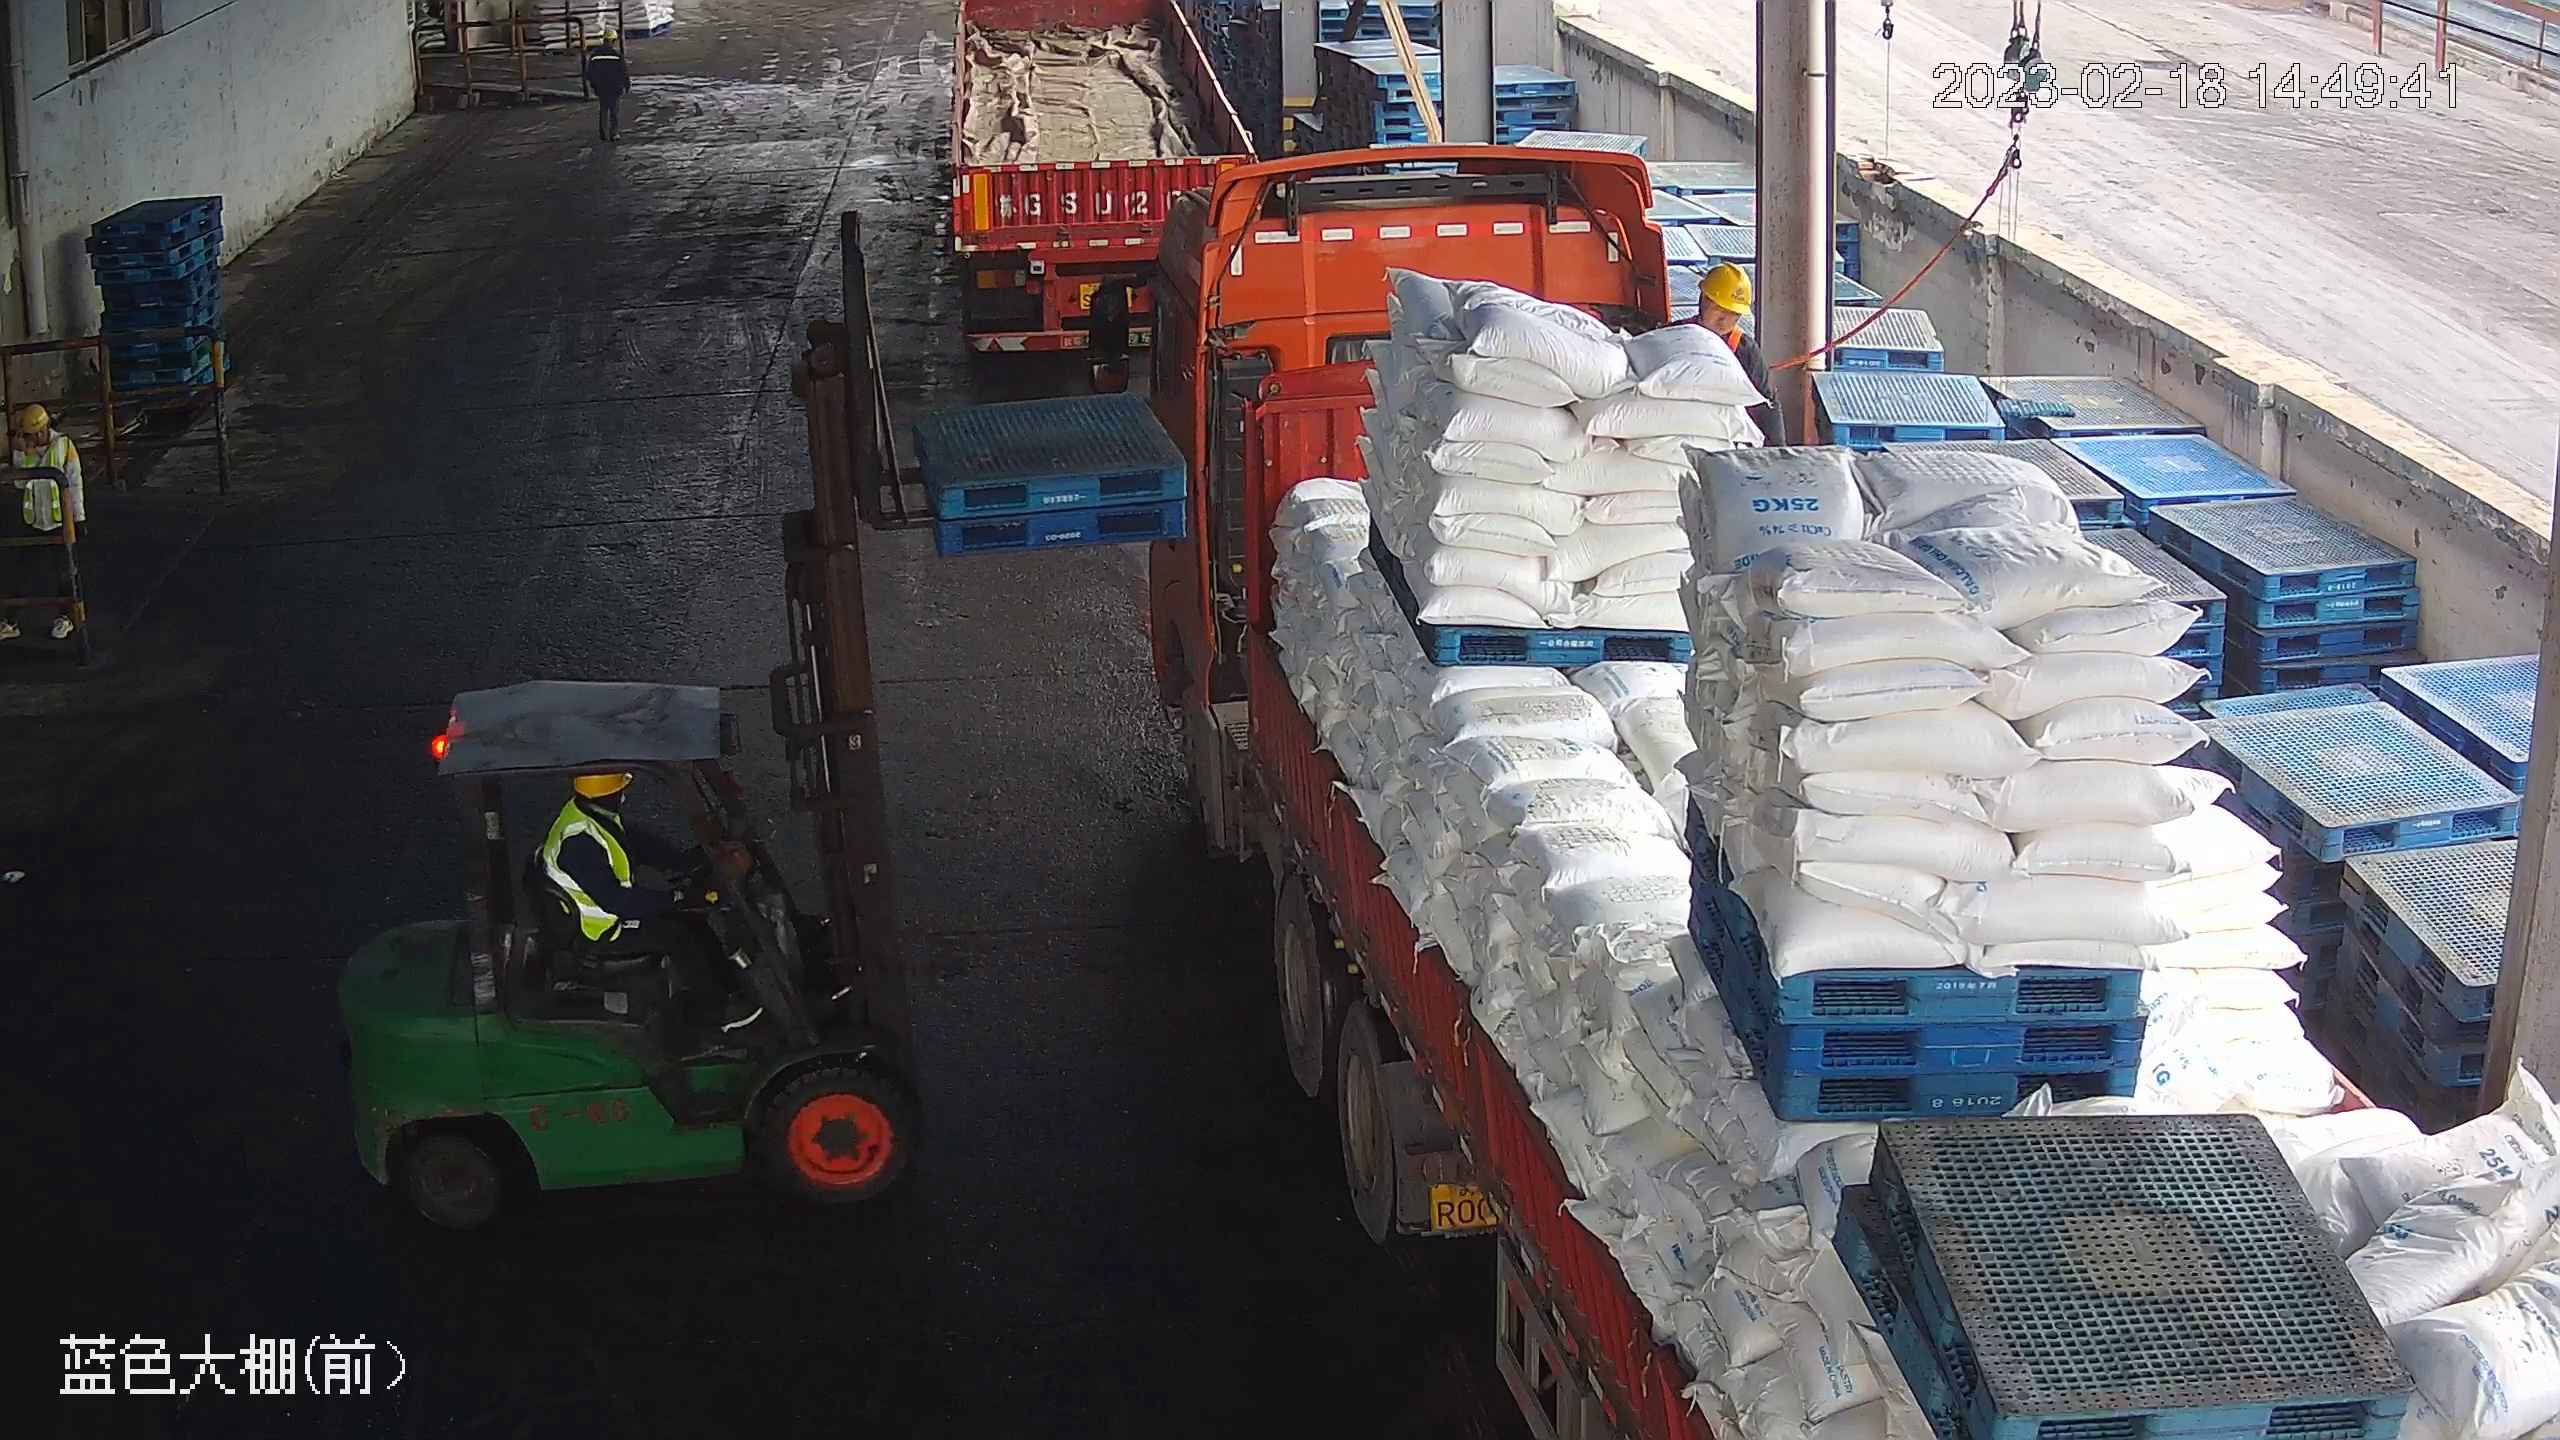head: (545, 768, 642, 869), (9, 405, 80, 475), (586, 28, 627, 67)
helmet: (1695, 260, 1753, 313), (19, 405, 49, 428), (602, 29, 618, 40)
people: (543, 764, 741, 1015), (583, 28, 633, 151)
truck: (1043, 158, 2546, 1440)
